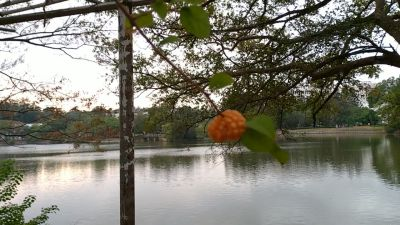eggs: (207, 108, 247, 144)
